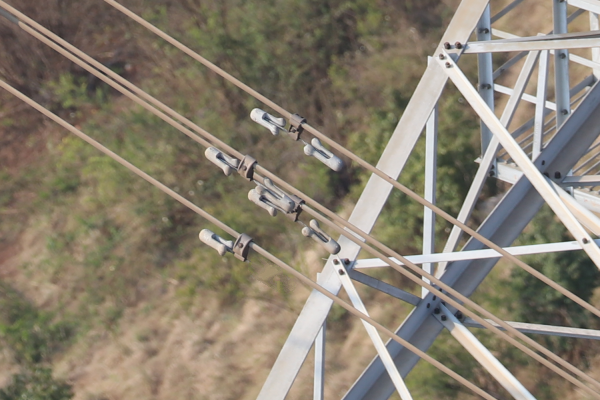damper: (247, 99, 346, 173), (246, 185, 341, 257), (200, 142, 296, 211)
damper_defect: (193, 226, 254, 264)
